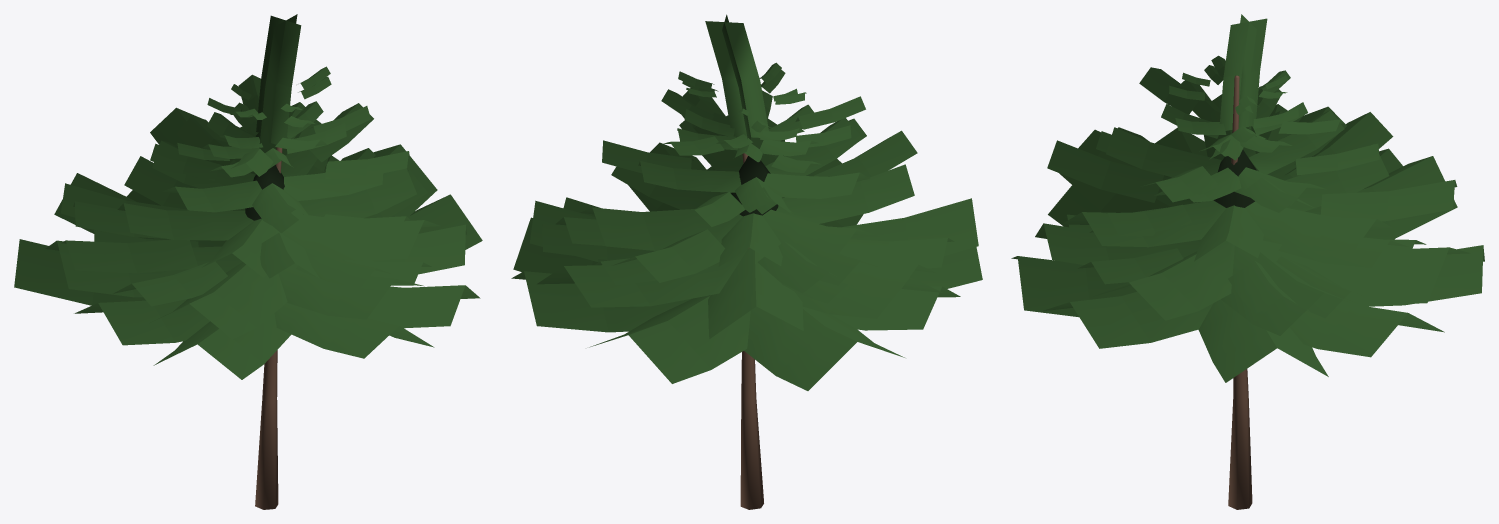
The model's file is sapling_spruce_b.glb.
The picture shows the model from 3 angles, left to right: view 1: azimuth 30°, elevation 25°; view 2: azimuth 150°, elevation 25°; view 3: azimuth 270°, elevation 25°; orthographic projection. The views are drawn at different scales.
Parts seen in each view (by area): view 1: sapling_spruce_b_lod0; view 2: sapling_spruce_b_lod0; view 3: sapling_spruce_b_lod0.
Part boxes in pixels (x1,y1,x2,y2): sapling_spruce_b_lod0: [14, 14, 482, 509]; sapling_spruce_b_lod0: [511, 14, 982, 509]; sapling_spruce_b_lod0: [1011, 14, 1484, 509].
Size of what is drawn, in the model's own units: 1.9 by 2.11 by 1.82.
